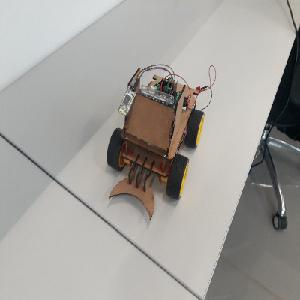Robot: (105, 66, 206, 220)
